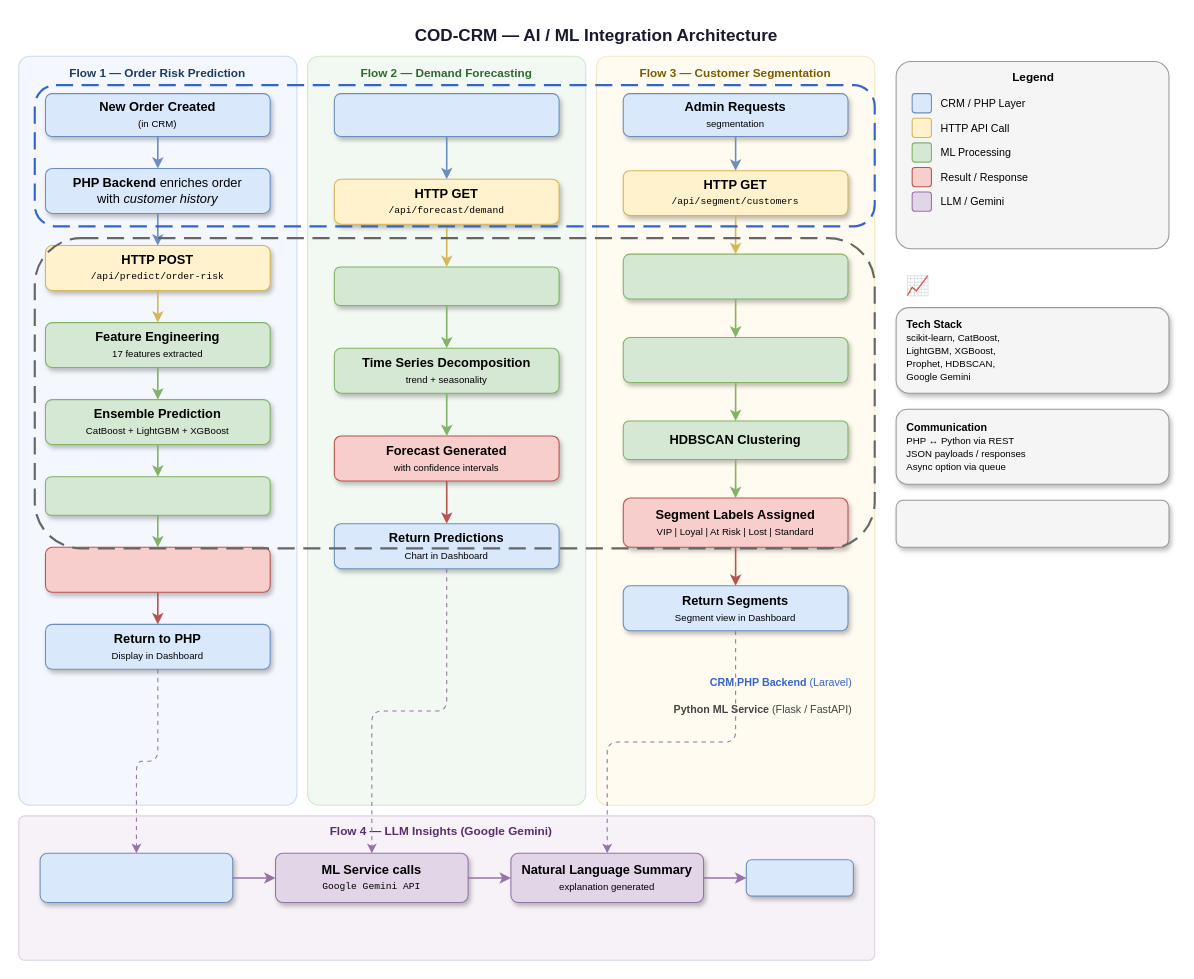
This 1194x979 diagram has some shape labels left out. Here are the shapes that lost their labels. From the top down, the centre of each, then its label:
At point (447, 116): "Analytics Dashboard requests forecast".
At point (447, 287): "Prophet Model Loaded".
At point (736, 278): "RFM Features Computed Recency, Frequency, Monetary".
At point (736, 361): "StandardScaler normalization".
At point (158, 497): "Weighted Soft Voting".
At point (1033, 525): "All results are rendered in the CRM Dashboard (Blade + Chart.js)".
At point (158, 571): "Risk Score (0-100) + Category + Reasons".
At point (137, 879): "User Requests Insights in any language (AR / FR / EN)".
At point (800, 879): "Return to User".
